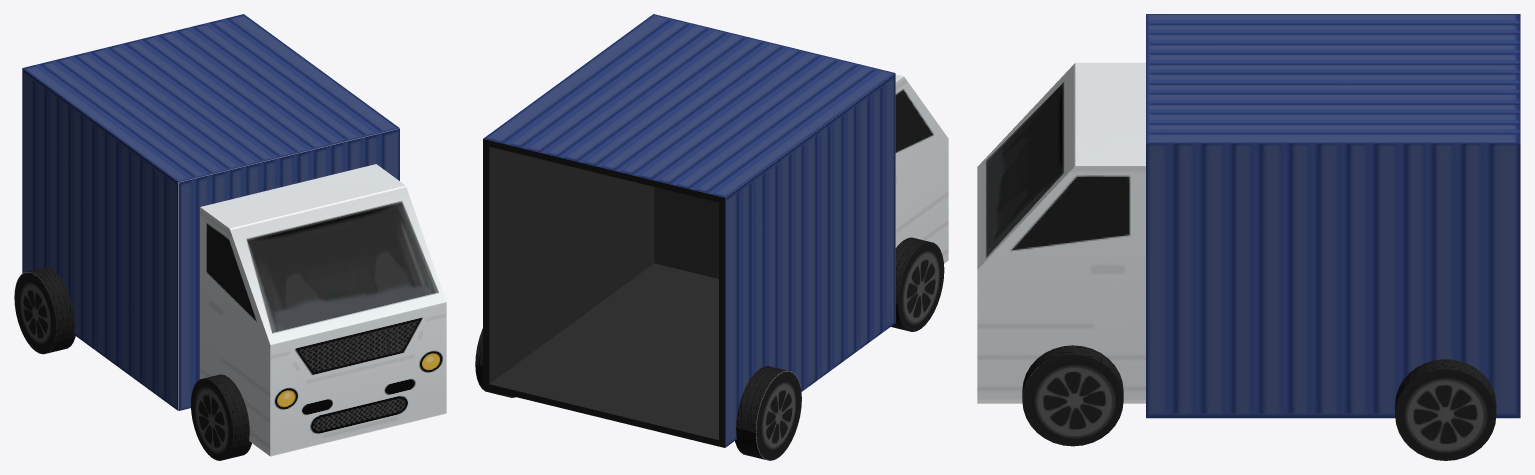
File: Truck_PSX.fbx
3 views of the same model, side by side, from view 1: azimuth 30°, elevation 25°; view 2: azimuth 150°, elevation 25°; view 3: azimuth 270°, elevation 25° (orthographic). The views are drawn at different scales.
Visible parts, largest first — view 1: Cube, Cylinder, Cylinder.003; view 2: Cube, Cylinder, Cylinder.003; view 3: Cube, Cylinder.001, Cylinder.002.
Boxes of the visible parts, x1,y1,x2,y2 form: Cube: (22,14,446,456); Cylinder: (14,267,75,354); Cylinder.003: (191,374,251,460); Cube: (483,14,948,447); Cylinder: (735,366,801,460); Cylinder.003: (891,237,944,331); Cube: (977,14,1520,418); Cylinder.001: (1395,359,1496,460); Cylinder.002: (1022,345,1123,446).
Size of the model in its own units: 702 by 669 by 1072.
